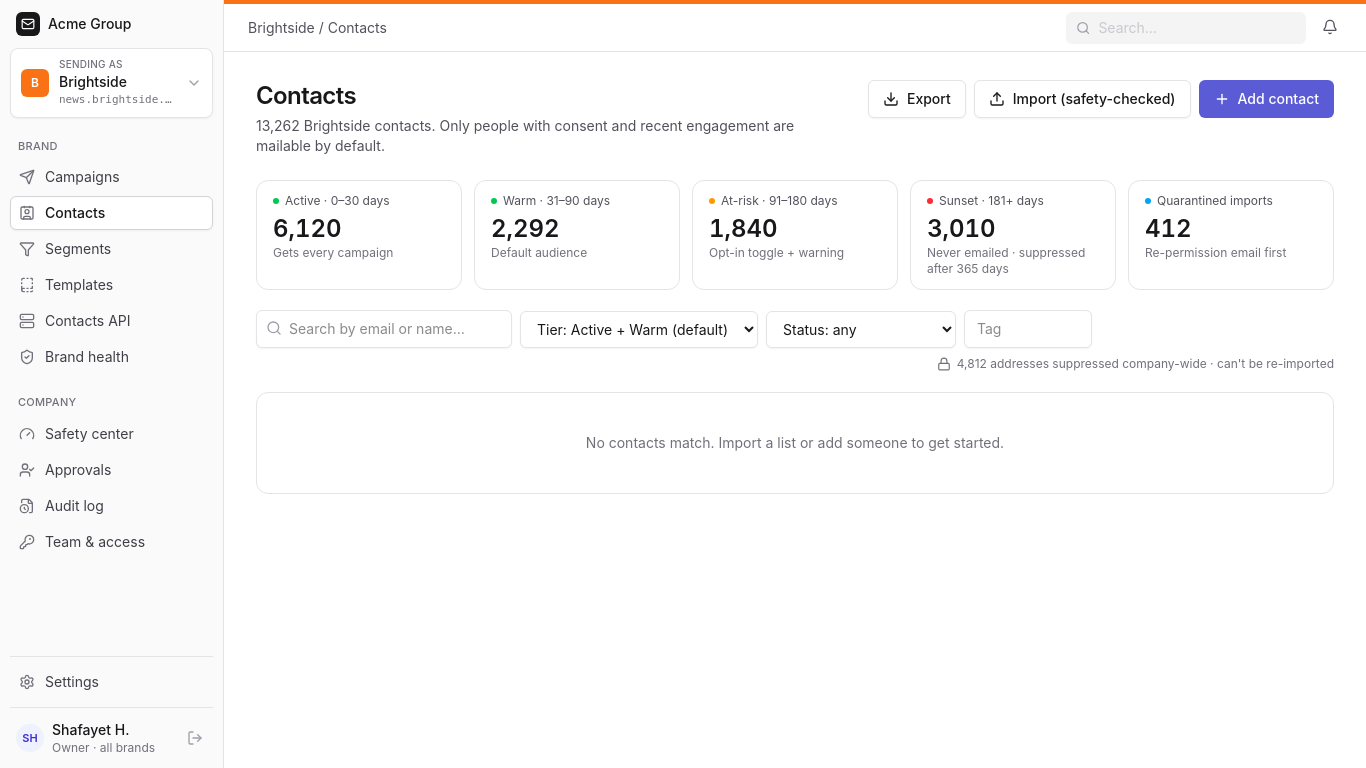
contacts (S3) › adds a contact with a consent source
Click the button "Add contact" at x=1266, y=99, box [1198,80,1334,118]
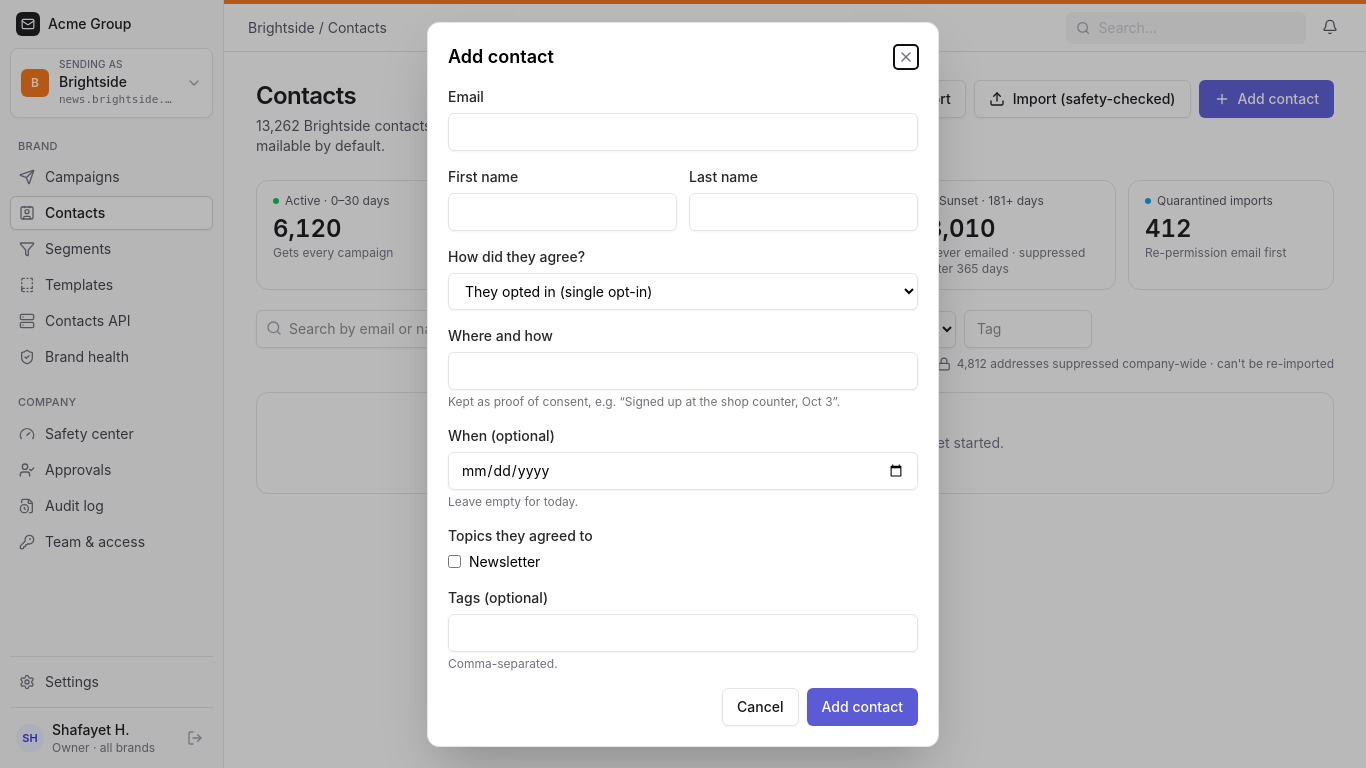
Type "new@example.com" into the field labelled "Email" at x=683, y=132, box [448,112,918,150]
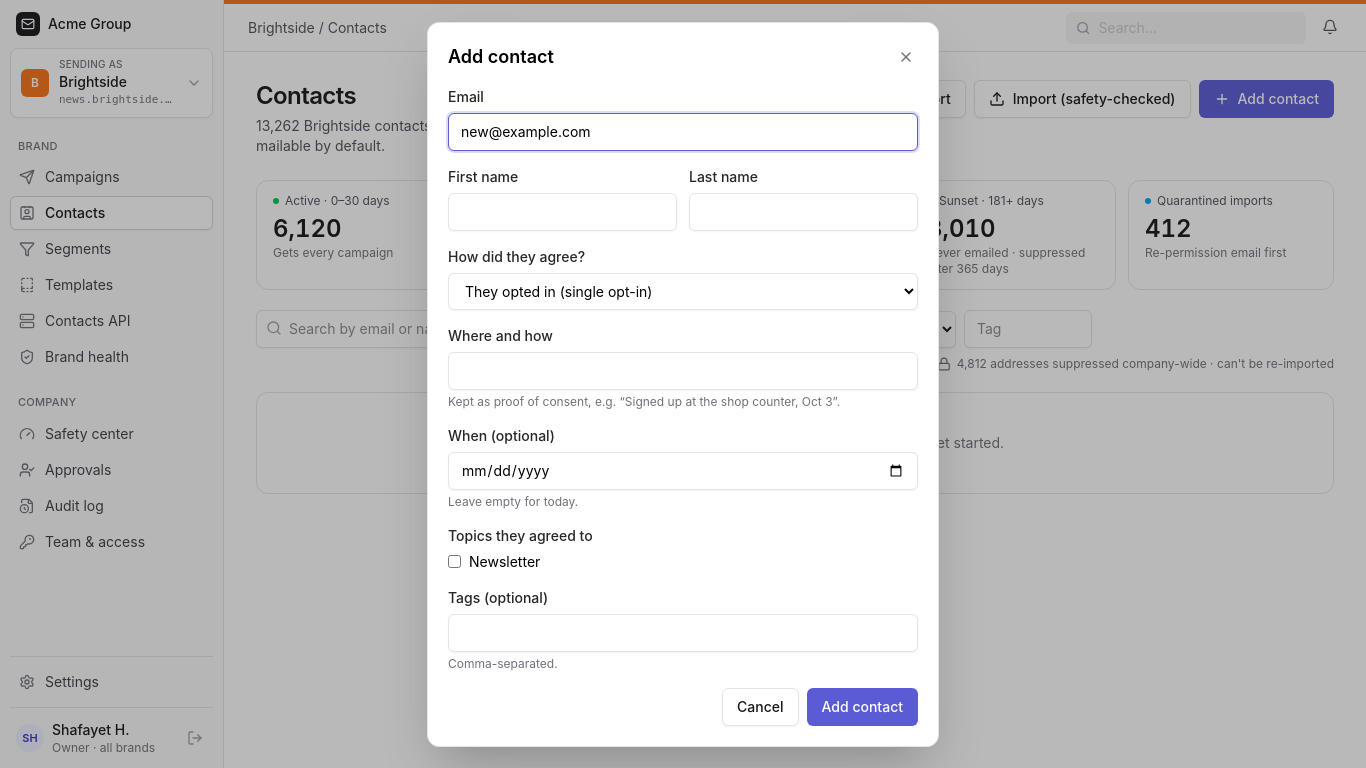
Type "Signed up at the shop" into the field labelled "Where and how" at x=683, y=370, box [448,352,918,390]
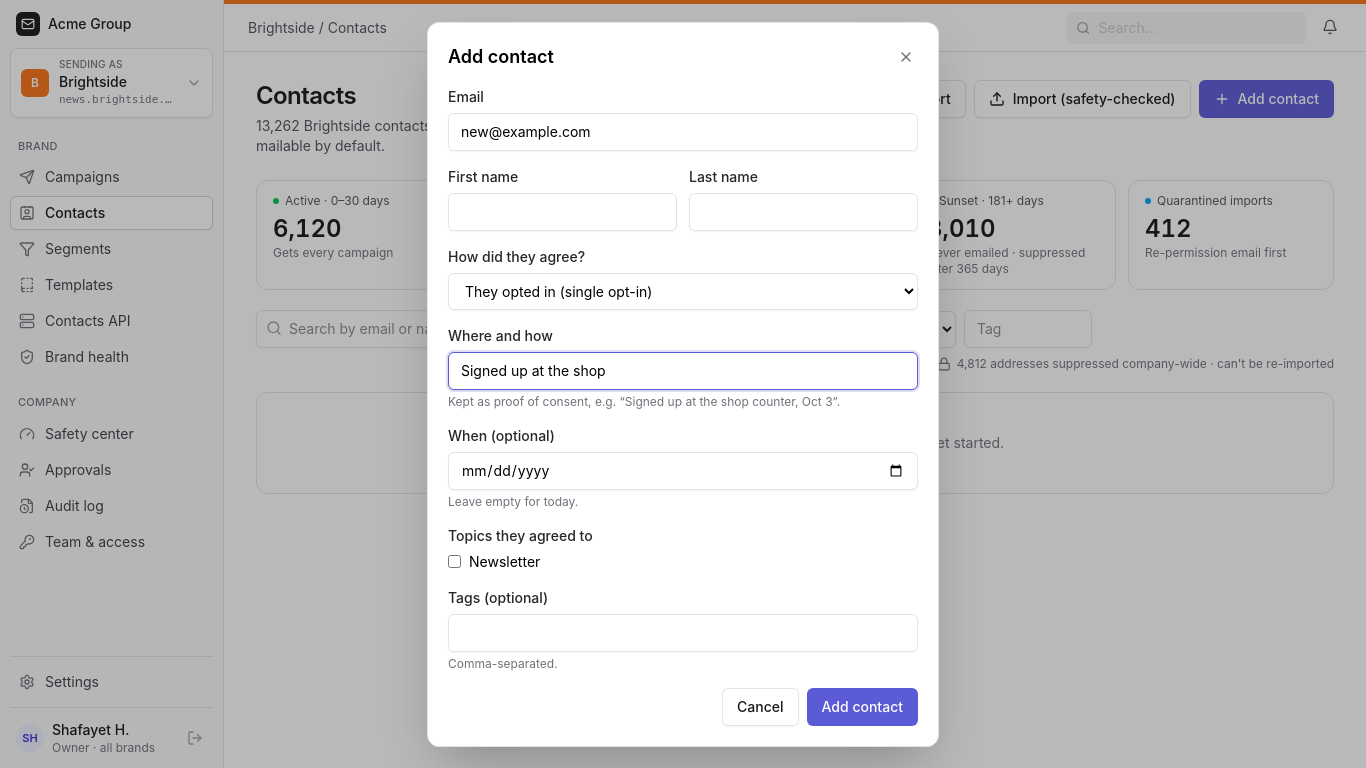
Click the checkbox labelled "Newsletter" at x=454, y=562, box [448,555,461,568]
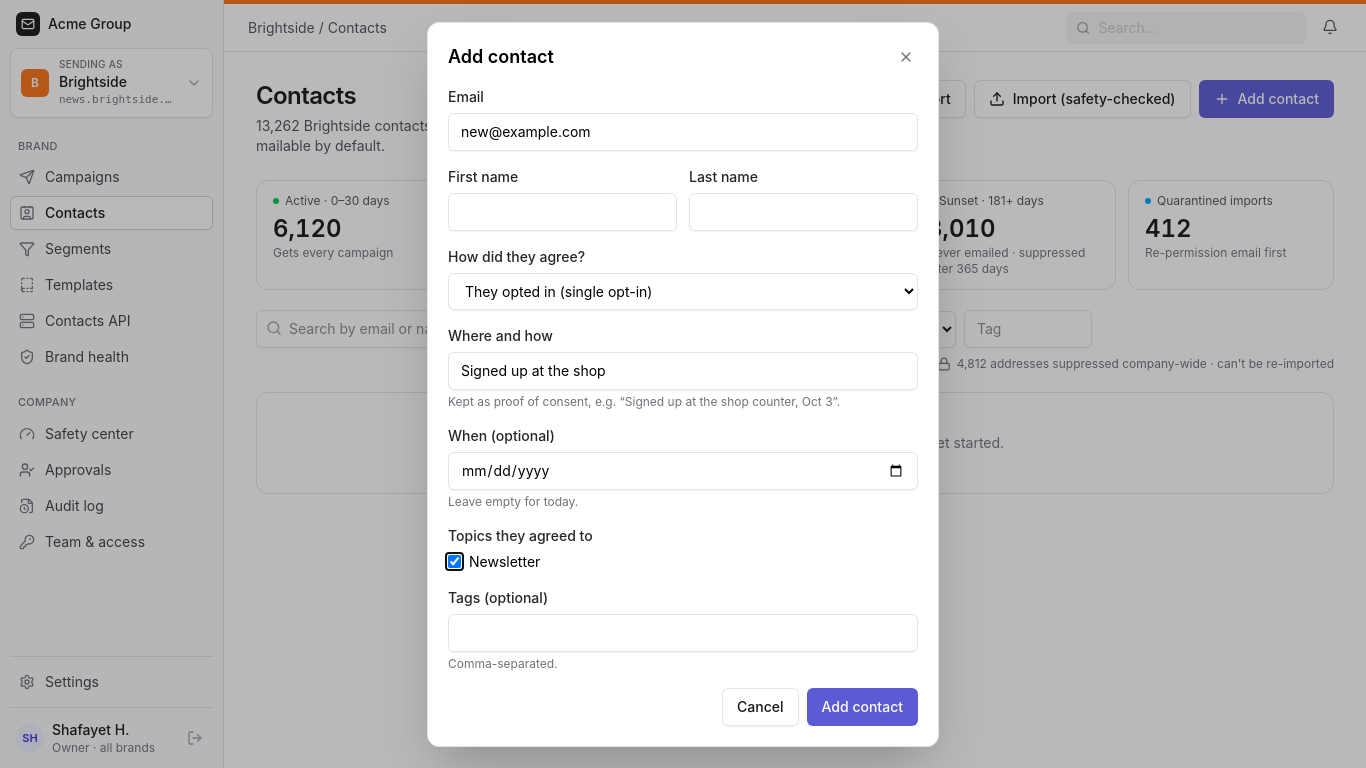
Click the button "Add contact" at x=862, y=706, box [806,688,918,726]
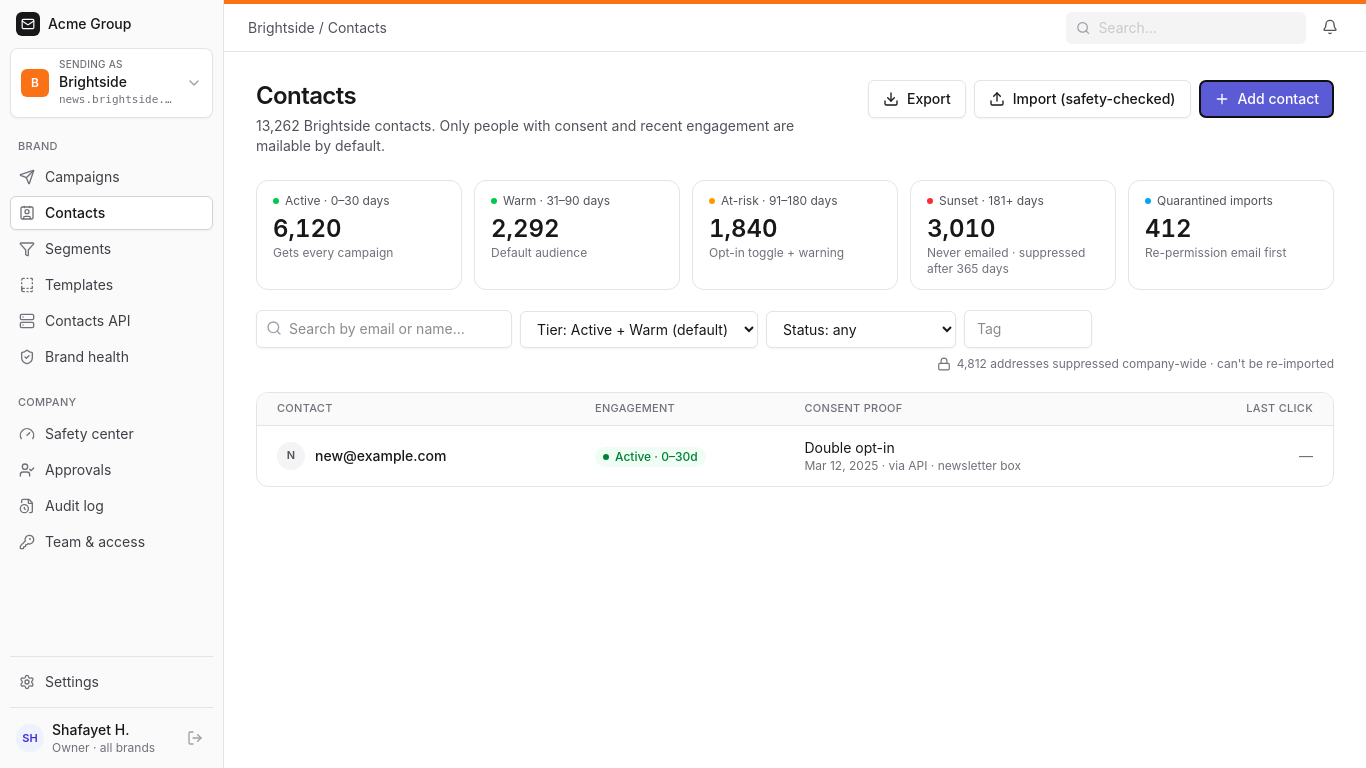
Expected: the button "new@example.com" is shown, [315,446,446,466]
